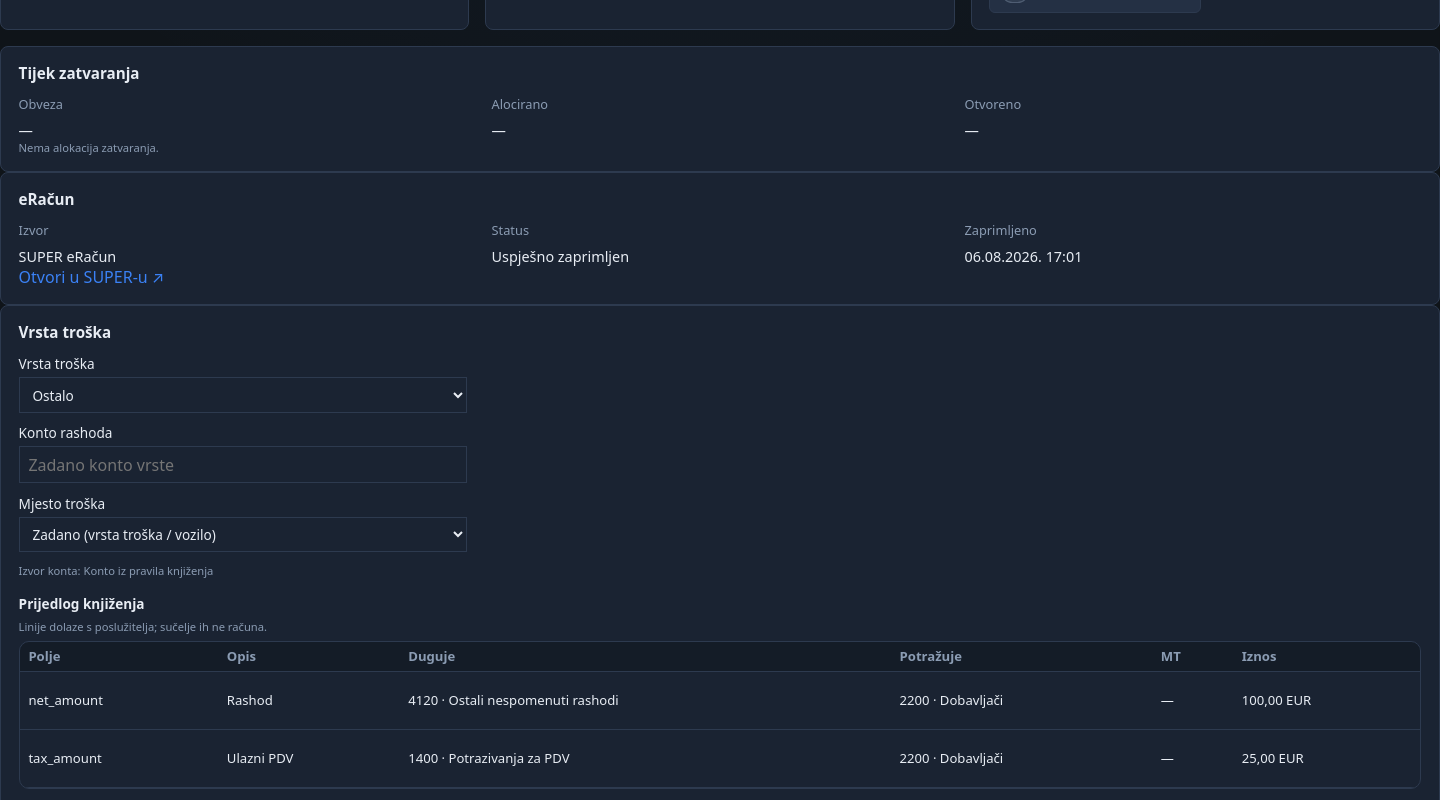
Test: IncomingExpenseDetail › refetches preview after a successful draft PATCH
(page scrolled)
Select "Telekomunikacije" in the dropdown labelled "Vrsta troška" at (243, 395), box [19,377,467,413]
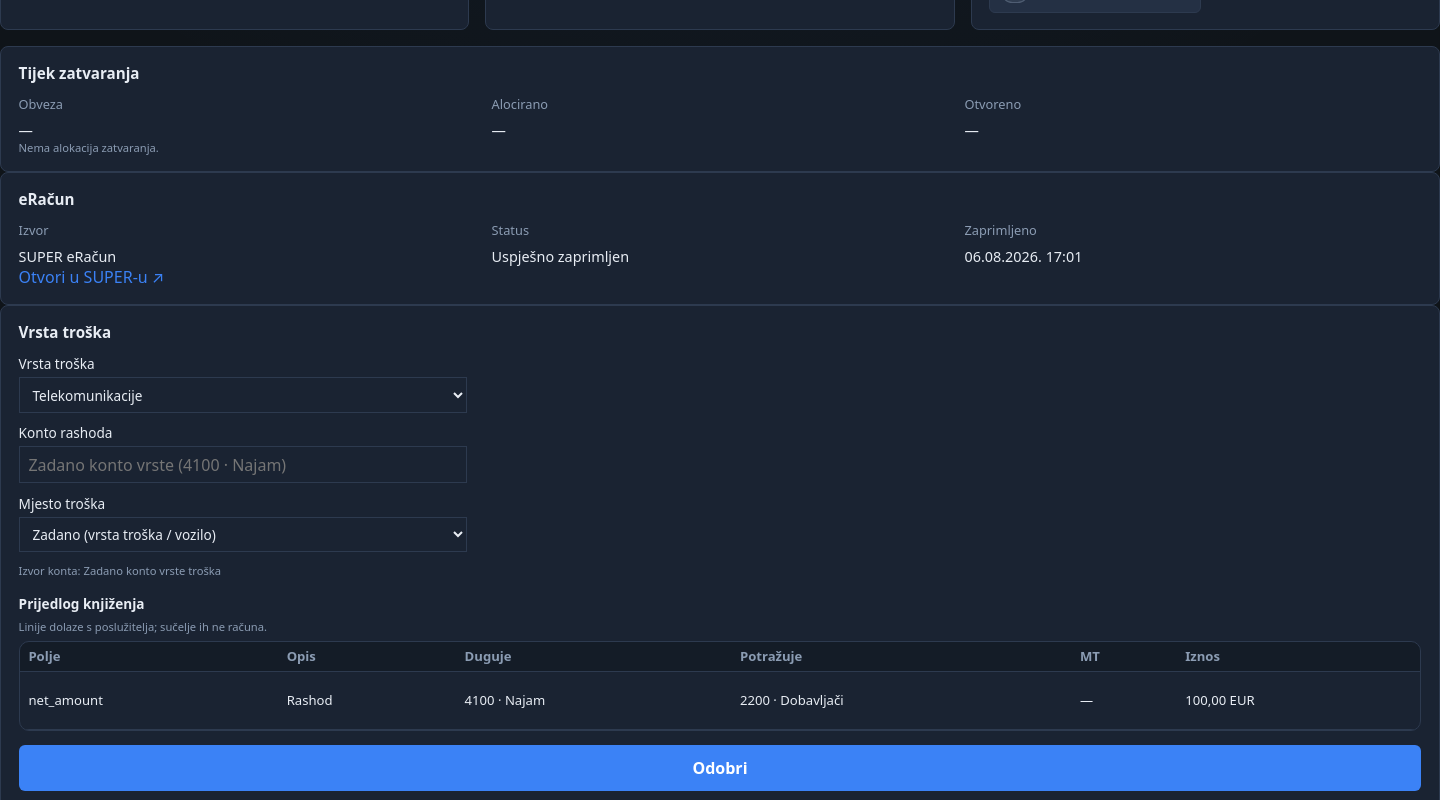
Expected: the cell "4100 · Najam" is shown, [456,671,731,729]
